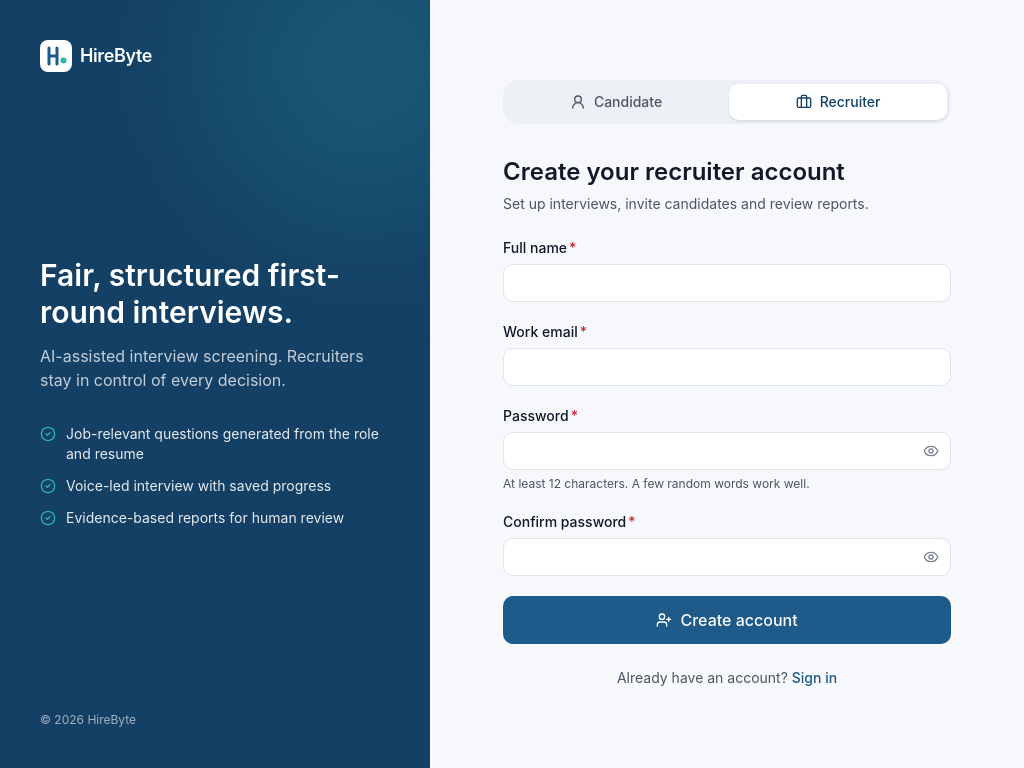
RecruiterRegisterPage › explains when sign-up is switched off, and when there are too many attempts
Type "Priya Sharma" into the field labelled "Full name*" at (727, 283), box [503,264,951,302]
Type "priya@example.test" into the field labelled "Work email*" at (727, 367), box [503,348,951,386]
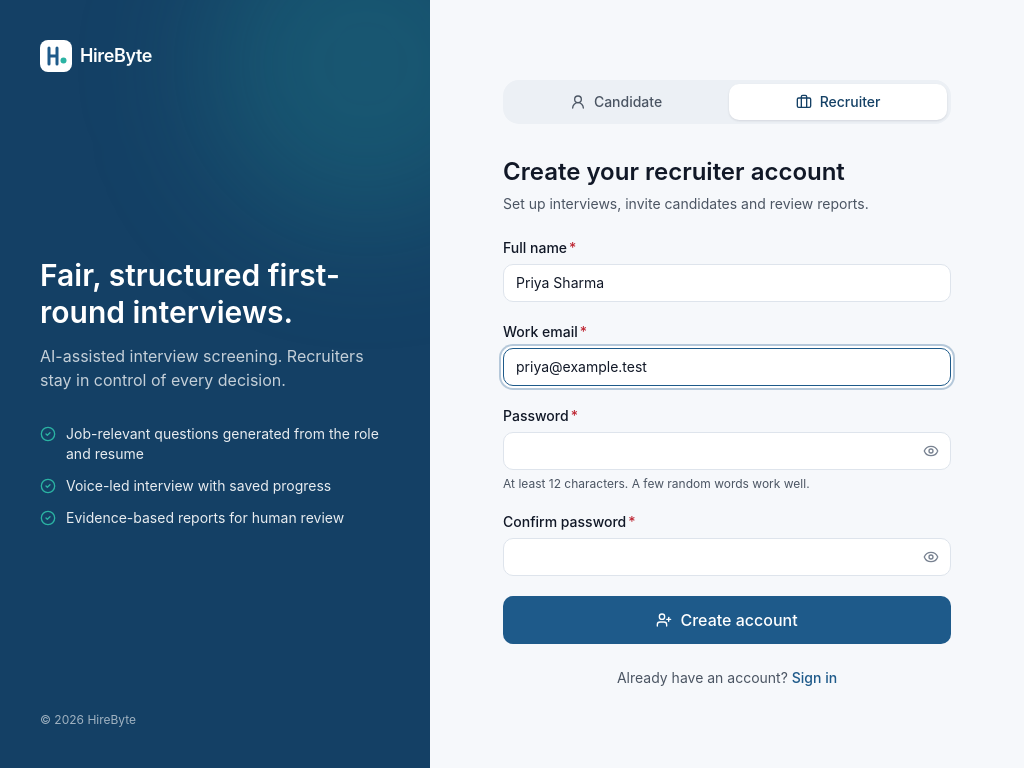
Type "a-long-unique-passphrase-2026" into the password field labelled "Password*" at (727, 451), box [503,432,951,470]
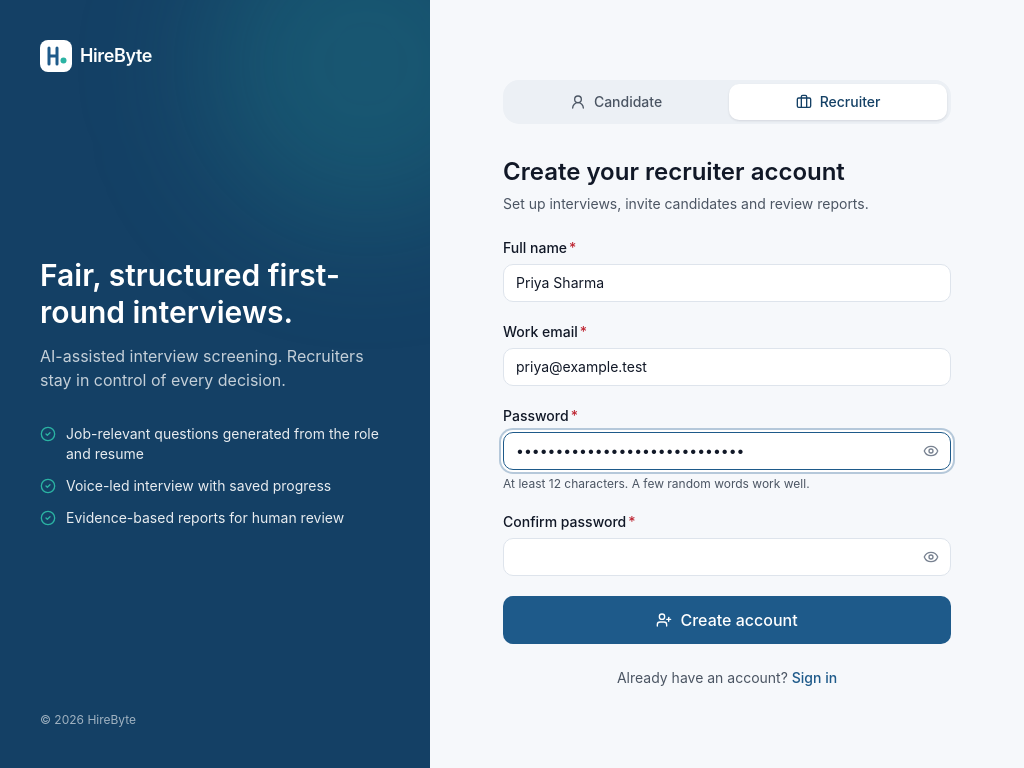
Type "a-long-unique-passphrase-2026" into the password field labelled "Confirm password*" at (727, 557), box [503,538,951,576]
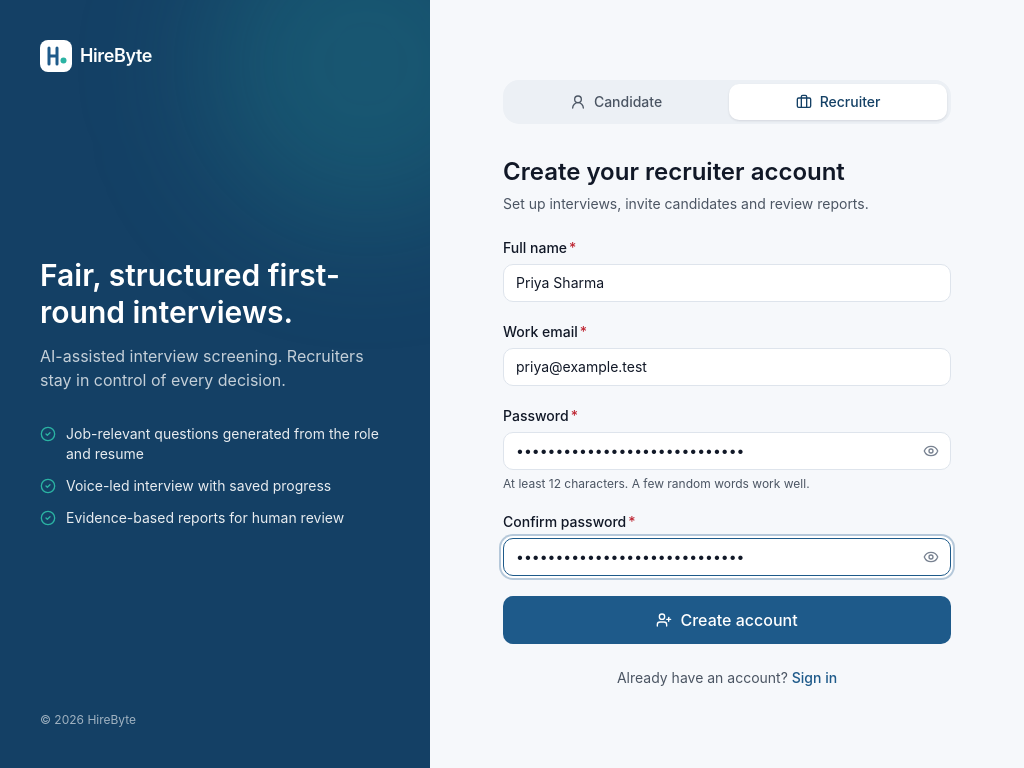
Click the button "Create account" at (727, 620), box [503,596,951,644]
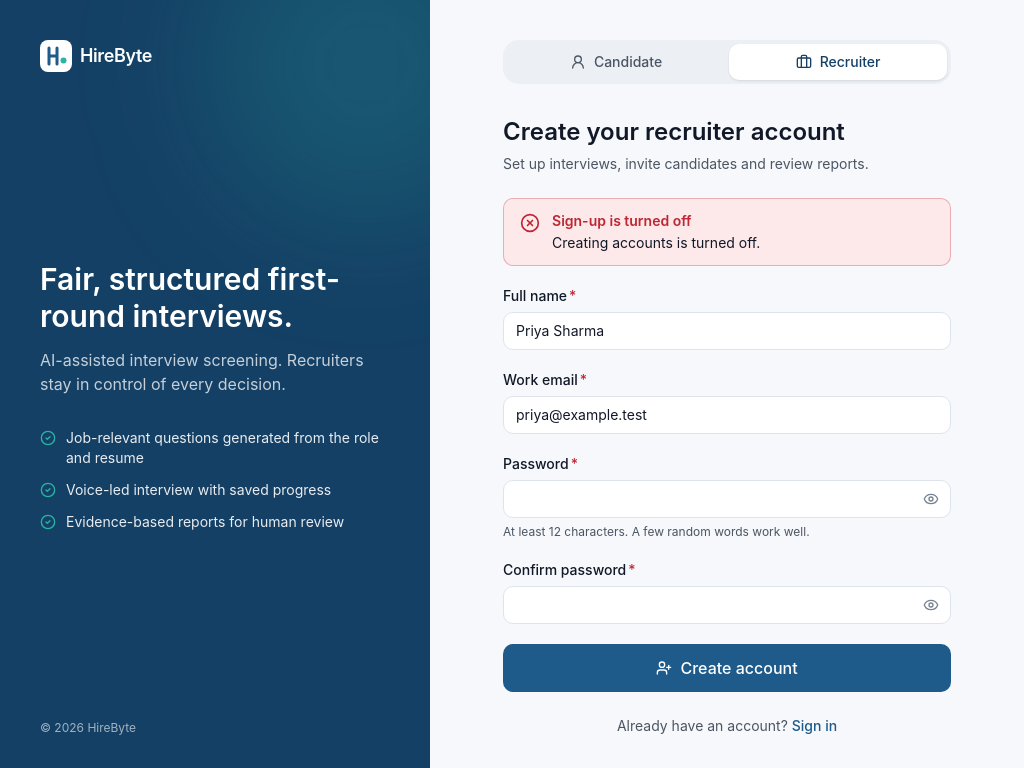
Expected: the text "Sign-up is turned off" is shown, [552,212,692,229]
Type "a-long-unique-passphrase-2026" into the password field labelled "Password*" at (727, 499), box [503,480,951,518]
Type "a-long-unique-passphrase-2026" into the password field labelled "Confirm password*" at (727, 605), box [503,586,951,624]
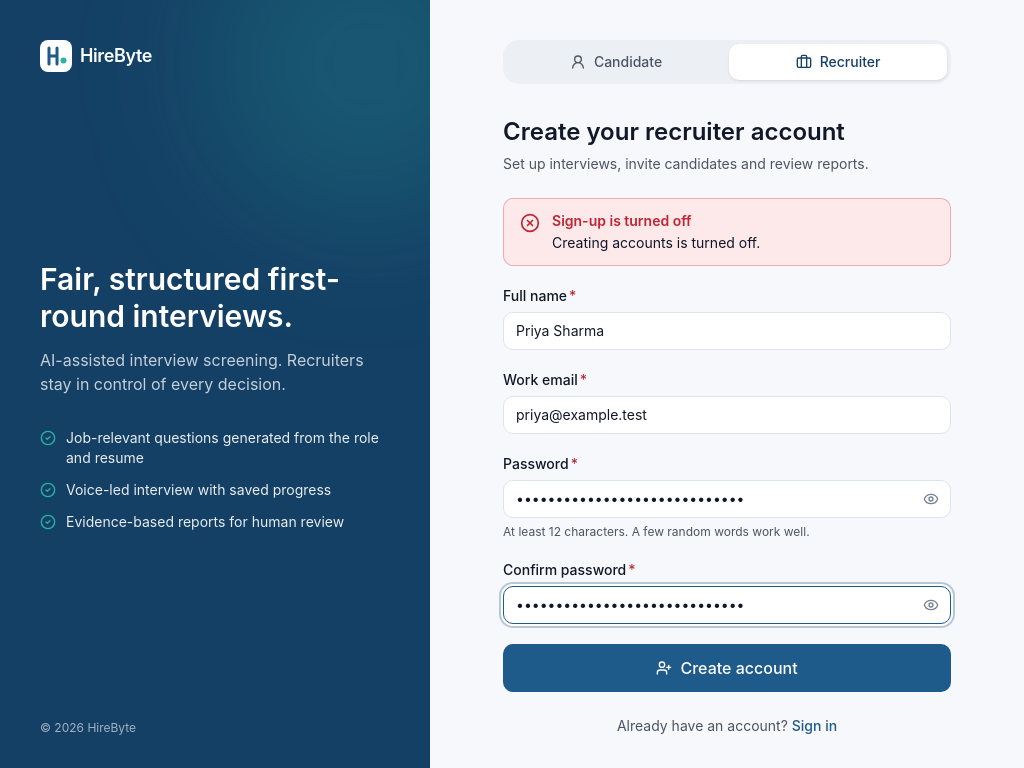
Click the button "Create account" at (727, 668), box [503,644,951,692]
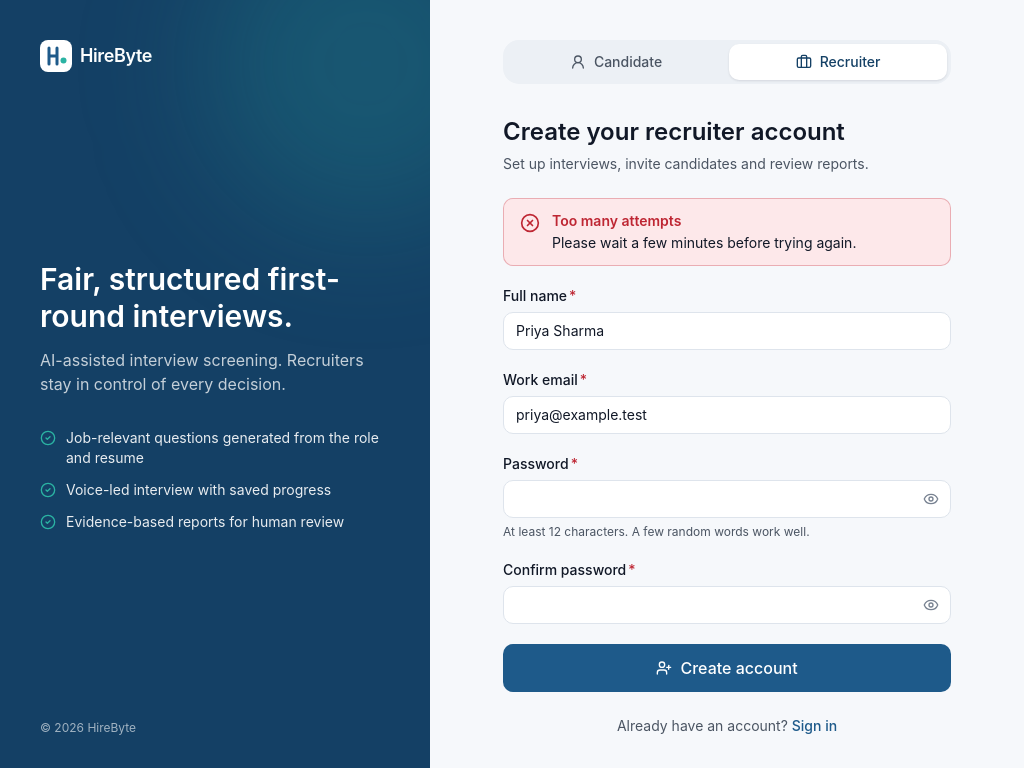
Expected: the text "Too many attempts" is shown, [552,212,681,229]
